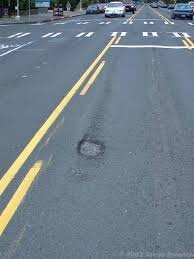pothole: (77, 131, 108, 161)
